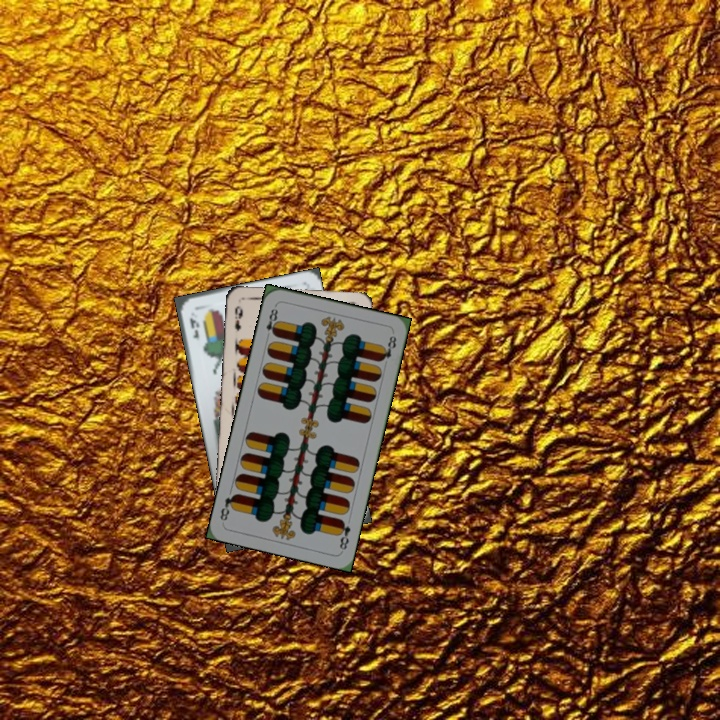E8: (262, 302, 281, 342), (334, 516, 353, 552)
E9: (230, 302, 245, 334)
EK: (186, 313, 202, 341)
